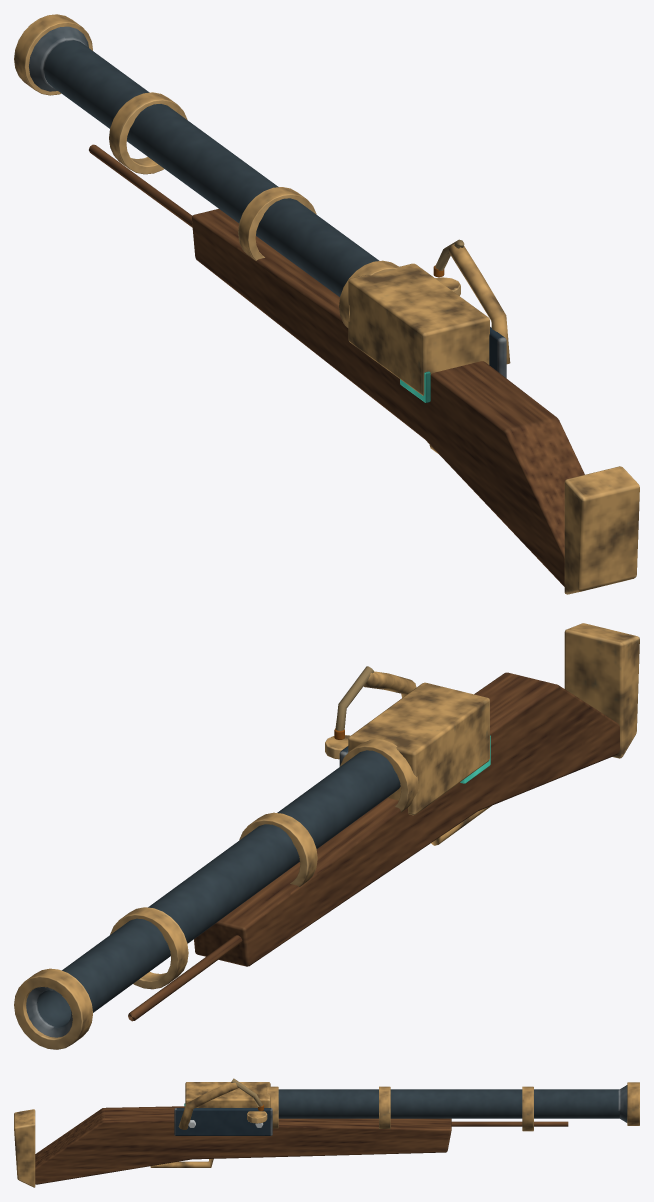
File: matchlock.glb
3 views of the same model, one above another, from view 1: azimuth 30°, elevation 25°; view 2: azimuth 150°, elevation 25°; view 3: azimuth 270°, elevation 25° (orthographic). The views are drawn at different scales.
Parts seen in each view (by area): view 1: v3_matchlock__walnut_stock, v3_matchlock__long_barrel, v3_matchlock__breech, v3_matchlock__butt_cap, v3_matchlock__barrel_band_0, v3_matchlock__muzzle_lip, v3_matchlock__serpentine_match_arm, v3_matchlock__barrel_band_1, v3_matchlock__underbarrel_rod, v3_matchlock__barrel_band_2; view 2: v3_matchlock__walnut_stock, v3_matchlock__long_barrel, v3_matchlock__breech, v3_matchlock__butt_cap, v3_matchlock__muzzle_lip, v3_matchlock__barrel_band_0, v3_matchlock__barrel_band_1, v3_matchlock__barrel_band_2, v3_matchlock__underbarrel_rod, v3_matchlock__serpentine_match_arm, v3_matchlock__match_cord; view 3: v3_matchlock__walnut_stock, v3_matchlock__long_barrel, v3_matchlock__side_plate, v3_matchlock__breech, v3_matchlock__butt_cap, v3_matchlock__serpentine_match_arm, v3_matchlock__underbarrel_rod, v3_matchlock__muzzle_lip, v3_matchlock__barrel_band_0, v3_matchlock__barrel_band_1, v3_matchlock__guard, v3_matchlock__barrel_band_2 (+2 smaller).
Boxes of the visible parts, x1,y1,x2,y2 form: v3_matchlock__walnut_stock: (191,209,584,586); v3_matchlock__long_barrel: (29,26,379,296); v3_matchlock__breech: (348,263,489,395); v3_matchlock__butt_cap: (564,466,639,594); v3_matchlock__barrel_band_0: (109,92,187,174); v3_matchlock__muzzle_lip: (14,14,92,95); v3_matchlock__serpentine_match_arm: (448,244,510,364); v3_matchlock__barrel_band_1: (238,187,316,260); v3_matchlock__underbarrel_rod: (89,144,192,227); v3_matchlock__barrel_band_2: (339,260,398,327); v3_matchlock__walnut_stock: (194,672,619,966); v3_matchlock__long_barrel: (26,750,400,1037); v3_matchlock__breech: (348,682,489,815); v3_matchlock__butt_cap: (564,623,639,758); v3_matchlock__muzzle_lip: (14,968,92,1049); v3_matchlock__barrel_band_0: (110,907,188,989); v3_matchlock__barrel_band_1: (239,812,317,886); v3_matchlock__barrel_band_2: (340,739,418,812); v3_matchlock__underbarrel_rod: (128,935,242,1021); v3_matchlock__serpentine_match_arm: (363,671,416,697); v3_matchlock__match_cord: (335,666,373,730); v3_matchlock__walnut_stock: (35,1106,451,1184); v3_matchlock__long_barrel: (278,1085,627,1122); v3_matchlock__side_plate: (174,1108,272,1135); v3_matchlock__breech: (185,1082,270,1107); v3_matchlock__butt_cap: (14,1109,35,1187); v3_matchlock__serpentine_match_arm: (178,1082,238,1129); v3_matchlock__underbarrel_rod: (451,1121,568,1126); v3_matchlock__muzzle_lip: (627,1082,639,1125); v3_matchlock__barrel_band_0: (522,1086,533,1131); v3_matchlock__barrel_band_1: (379,1086,390,1128); v3_matchlock__guard: (150,1159,213,1167); v3_matchlock__barrel_band_2: (267,1086,278,1128).
Bounding box in the file's own units: 0.1438 × 0.2815 × 1.4.
2 materials, 2 textured.
